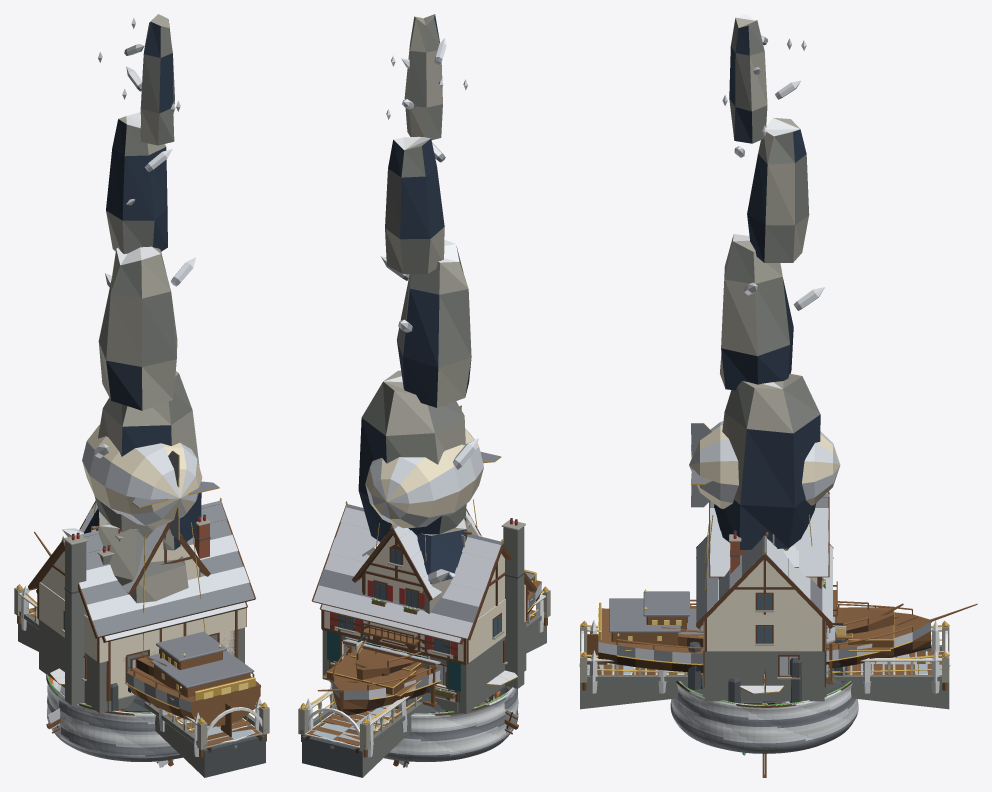
The model's file is Aether-Isles-Originals.glb.
3 views of the same model, side by side, from view 1: azimuth 30°, elevation 25°; view 2: azimuth 150°, elevation 25°; view 3: azimuth 270°, elevation 25° (orthographic).
Parts seen in each view (by area): view 1: StormSpire, TavernHall, Skyship, GalleonHull, StoneArchBridge, ShopHall, IslandCliff, IslandCliffBare, TimberTownhouse, CrystalBridge, RopeBridge, Caldera; view 2: StormSpire, TavernHall, Skyship, StoneArchBridge, TimberTownhouse, GalleonHull, ShopHall, IslandCliffBare, IslandCliff, CrystalBridge, RopeBridge, LogLodge; view 3: StormSpire, TavernHall, GalleonHull, Skyship, StoneArchBridge, IslandCliffBare, IslandCliff, TimberTownhouse, CrystalBridge, RopeBridge, Caldera, ShopHall.
Boxes of the visible parts, box(x1,y1,x2,y2) form: StormSpire: box(62, 14, 201, 603); TavernHall: box(28, 497, 255, 713); Skyship: box(82, 424, 226, 676); GalleonHull: box(34, 531, 260, 736); StoneArchBridge: box(14, 587, 269, 777); ShopHall: box(36, 514, 247, 711); IslandCliff: box(46, 674, 182, 760); IslandCliffBare: box(46, 674, 173, 761); TimberTownhouse: box(79, 501, 210, 594); CrystalBridge: box(21, 586, 262, 756); RopeBridge: box(16, 584, 266, 757); Caldera: box(83, 683, 154, 711); StormSpire: box(358, 14, 478, 668); TavernHall: box(311, 501, 536, 713); Skyship: box(350, 405, 501, 680); StoneArchBridge: box(298, 589, 550, 777); TimberTownhouse: box(352, 509, 481, 657); GalleonHull: box(317, 569, 541, 716); ShopHall: box(319, 543, 528, 712); IslandCliffBare: box(330, 682, 518, 761); IslandCliff: box(330, 685, 518, 761); CrystalBridge: box(305, 593, 543, 757); RopeBridge: box(301, 586, 548, 757); LogLodge: box(342, 639, 440, 706); StormSpire: box(714, 14, 824, 549); TavernHall: box(696, 534, 846, 701); GalleonHull: box(587, 598, 977, 694); Skyship: box(643, 421, 903, 647); StoneArchBridge: box(580, 623, 949, 709); IslandCliffBare: box(671, 681, 858, 752); IslandCliff: box(670, 681, 853, 753); TimberTownhouse: box(709, 491, 829, 588); CrystalBridge: box(579, 620, 950, 693); RopeBridge: box(580, 621, 949, 690); Caldera: box(688, 639, 847, 703); ShopHall: box(696, 530, 833, 697).
Bounding box in the file's own units: 6.56 × 25.1 × 12.08.
